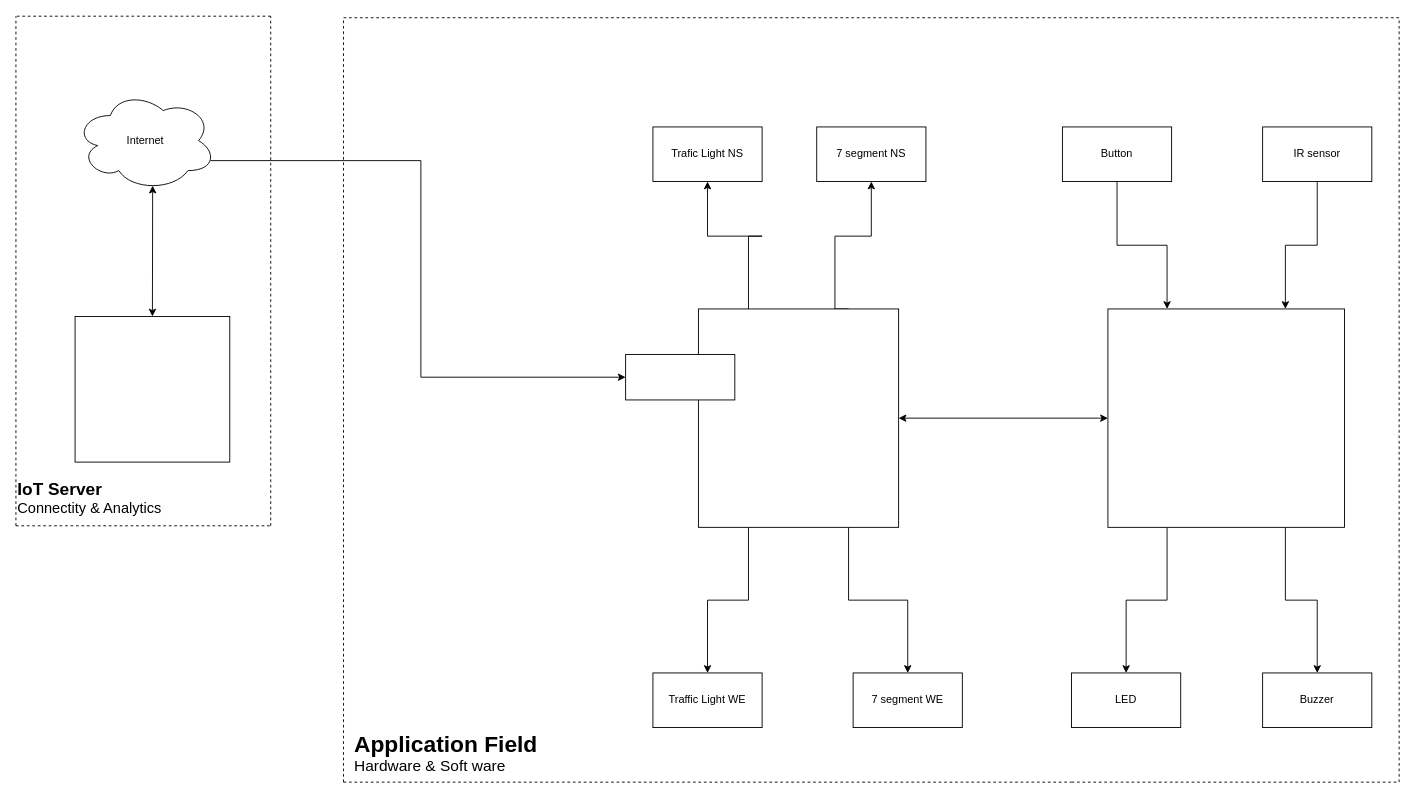
Some shapes in this 1416 by 812 pixel diagram are drawn without their labels. The centre of each missing label's shape, as x and y in pixels:
"Arduino Uno" belongs at (x=1226, y=417).
"Blynk's Interface" belongs at (x=152, y=389).
"NodeMCU (ESP32)" belongs at (x=798, y=417).
"WIFI" belongs at (x=680, y=377).
